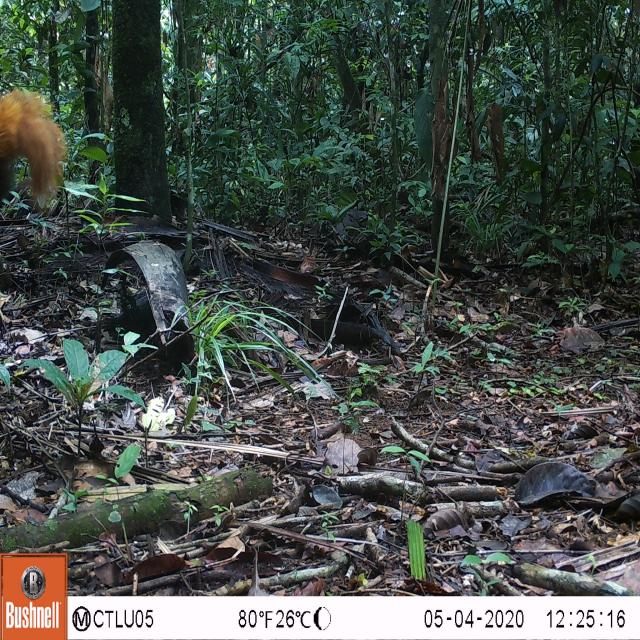Squirrel: (0, 73, 70, 205)
